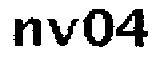0: (81, 5, 113, 48)
4: (114, 4, 149, 49)
n: (8, 15, 43, 51)
v: (45, 15, 80, 48)
